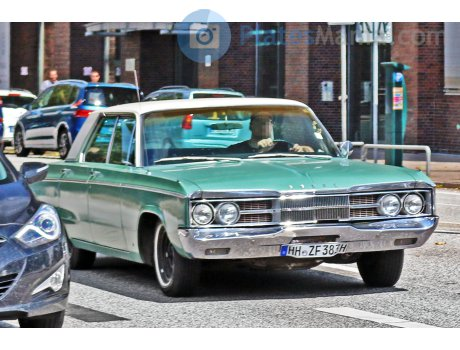License Plates: (292, 243, 345, 258)
